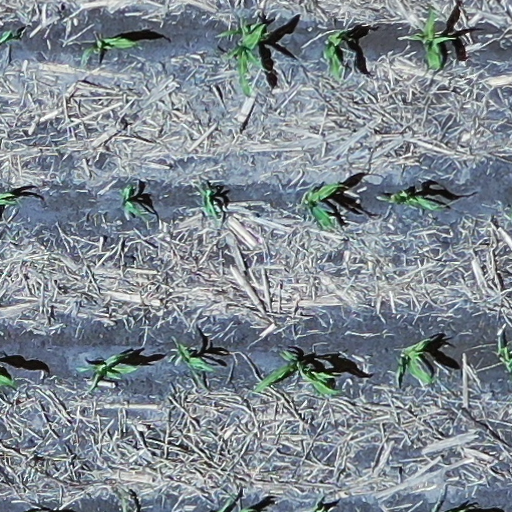planta: (251, 349, 350, 397), (215, 21, 266, 94), (397, 10, 460, 69), (396, 340, 435, 390), (81, 35, 138, 69), (70, 354, 140, 380), (304, 181, 340, 231), (387, 191, 439, 210), (121, 184, 151, 215), (176, 345, 210, 371), (325, 31, 344, 77)
